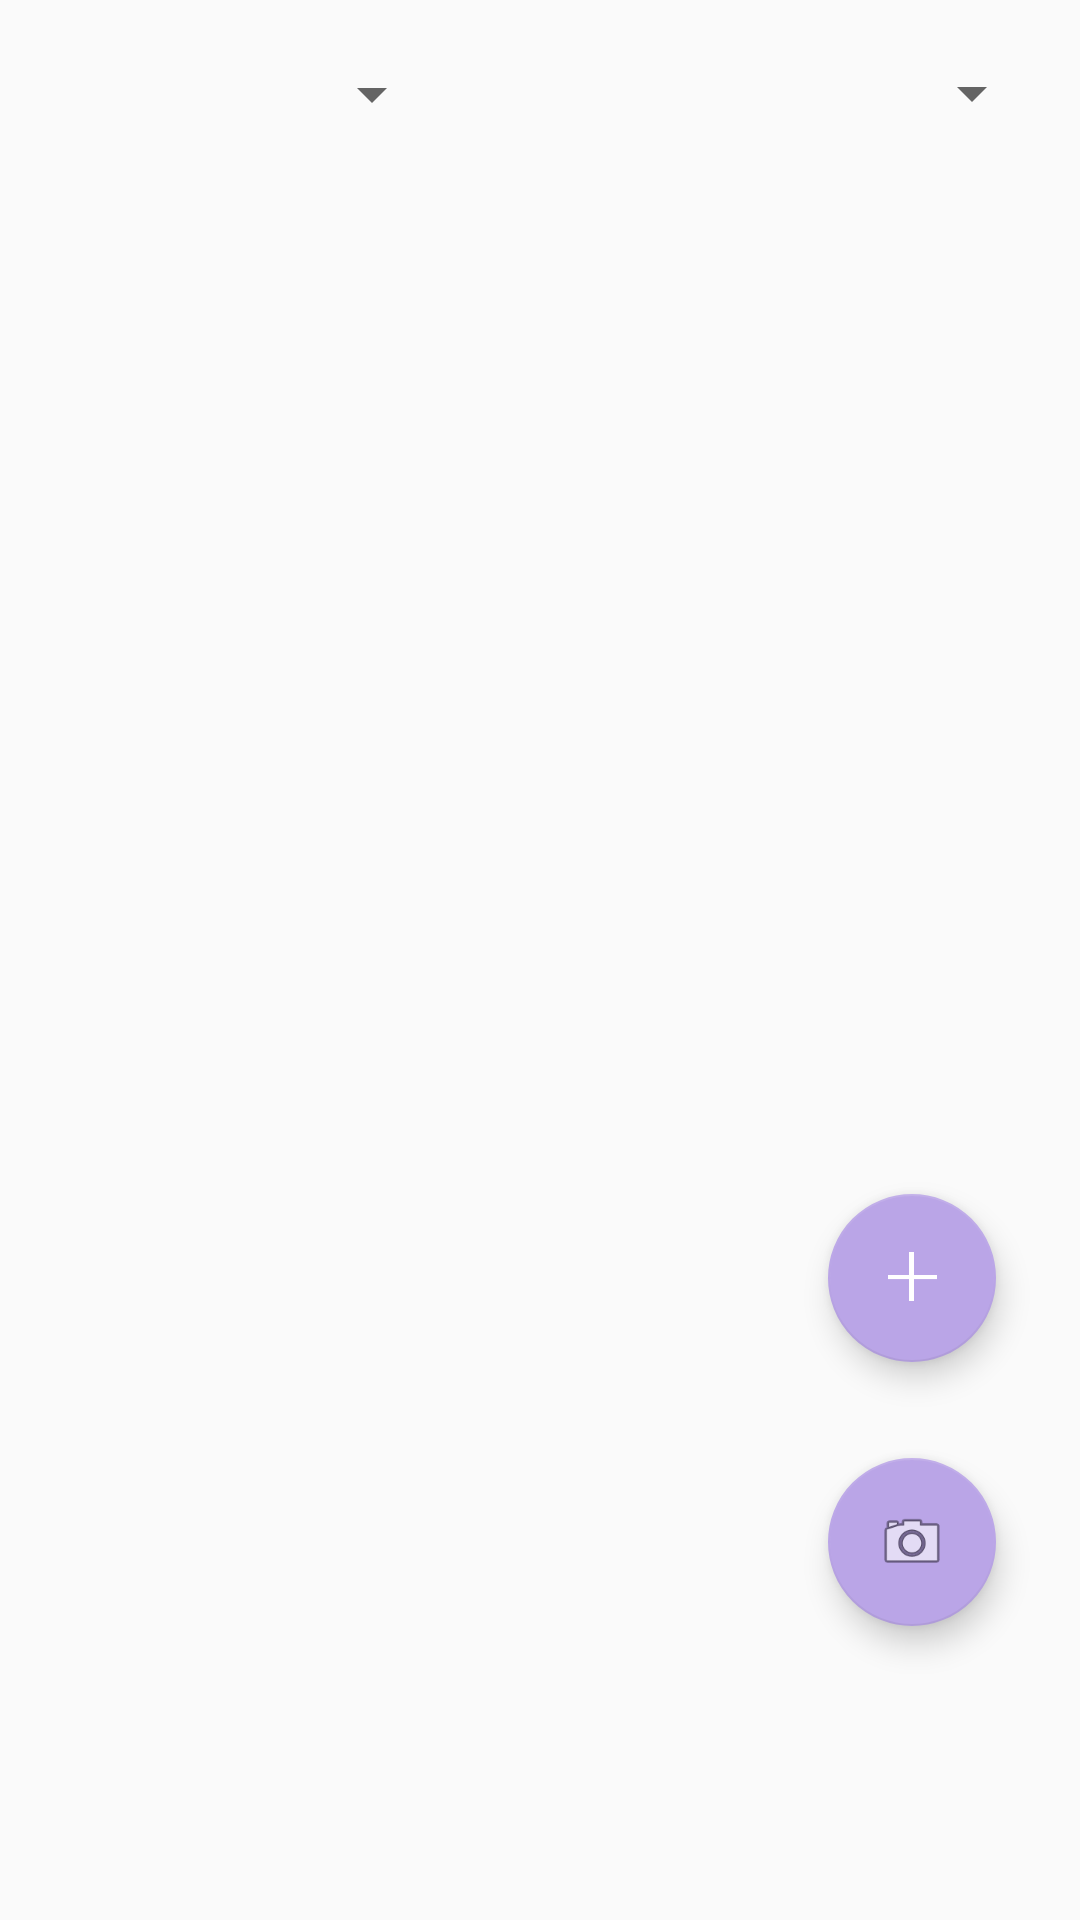

Where to tap for icons on this 1080×1920 app screen, as point (x, y):
add: point (912, 1278)
camera: point (912, 1542)
